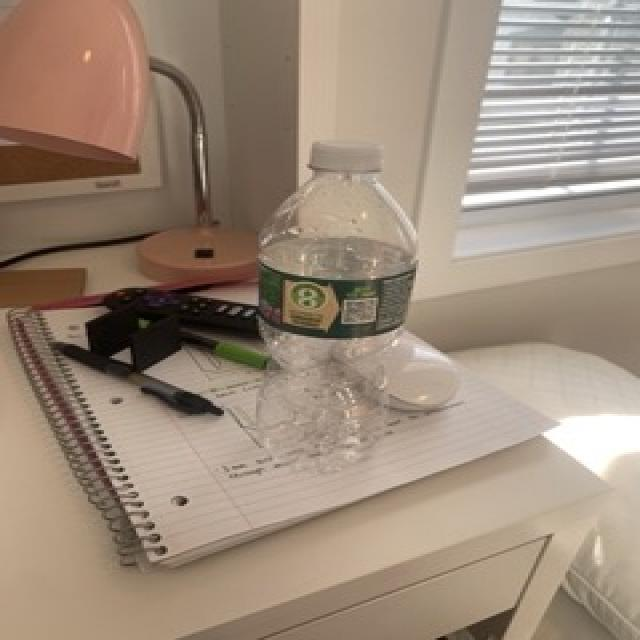water_bottle: (250, 137, 424, 481)
